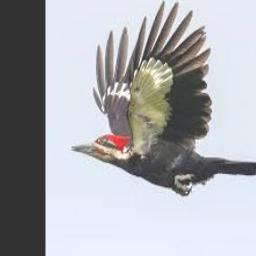Woodpecker: (70, 0, 256, 197)
